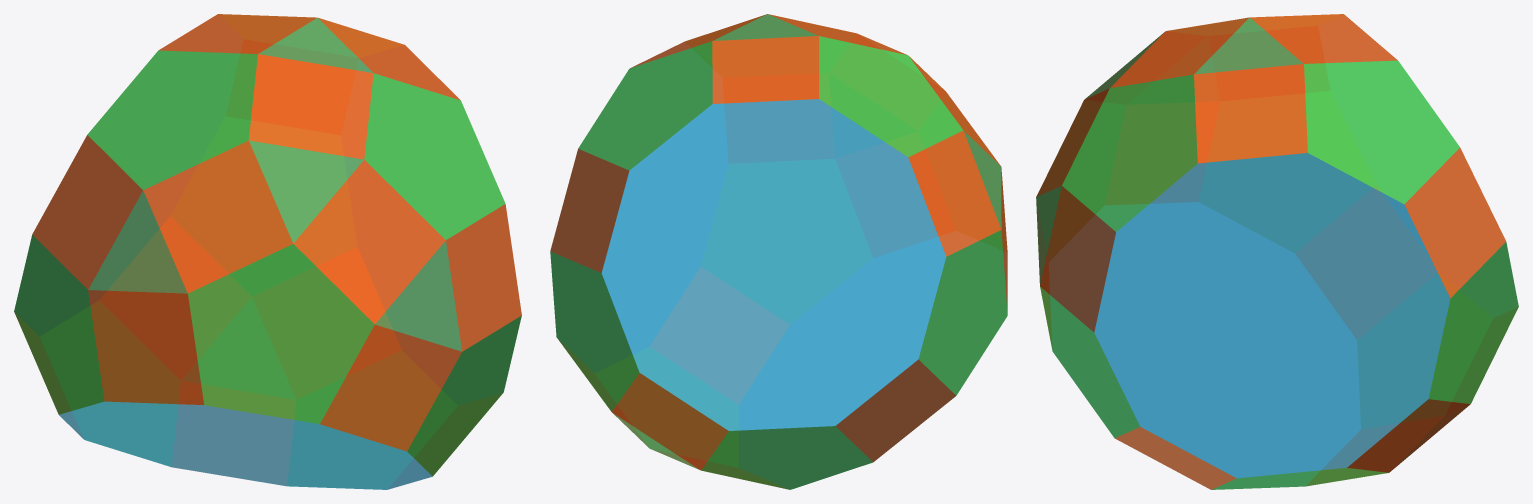
File: j83_tridiminished_rhombicosidodecahedron.obj
3 renders of one model, left to right at view 1: azimuth 30°, elevation 25°; view 2: azimuth 150°, elevation 25°; view 3: azimuth 270°, elevation 25°, orthographic. The views are drawn at different scales.
Bounding box in the file's own units: 1.68 × 1.97 × 1.95.
